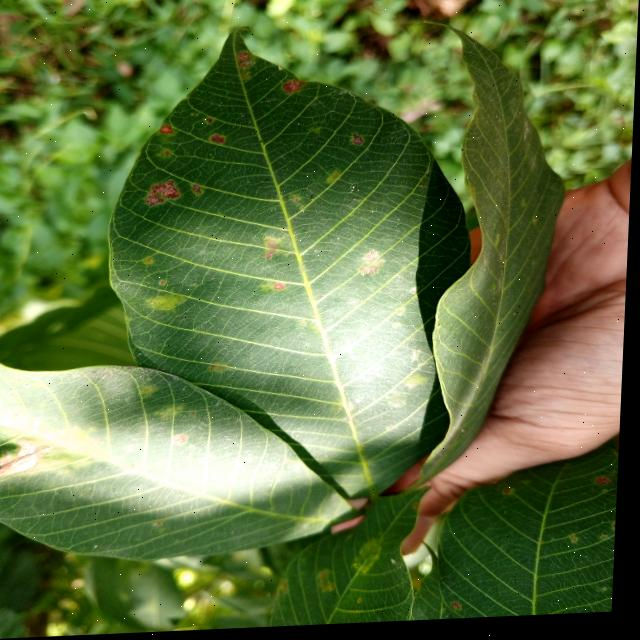Leaf-Blight: (0, 438, 44, 478)
